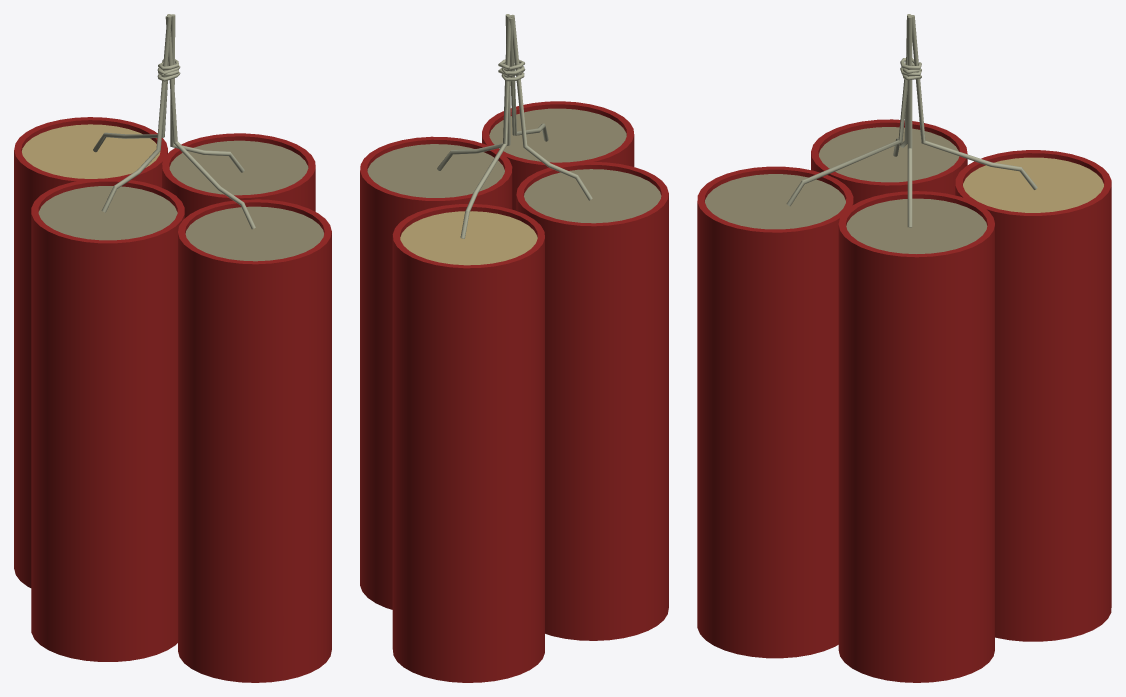
File: bomb+texture.fbx
3 views of the same model, side by side, from view 1: azimuth 30°, elevation 25°; view 2: azimuth 150°, elevation 25°; view 3: azimuth 270°, elevation 25° (orthographic). The views are drawn at different scales.
Visible parts, largest first — view 1: 柱体.007, 柱体.002, 柱体.004, 柱体, 柱体.003, 柱体.008, 柱体.001, 柱体.005; view 2: 柱体.004, 柱体.002, 柱体, 柱体.007, 柱体.005, 柱体.003, 柱体.008, 柱体.001; view 3: 柱体, 柱体.007, 柱体.004, 柱体.002, 柱体.005, 柱体.001, 柱体.008.
Boxes of the visible parts, x1=… form: 柱体.007: x1=178, y1=199, x2=331, y2=682; 柱体.002: x1=31, y1=178, x2=184, y2=661; 柱体.004: x1=14, y1=117, x2=167, y2=587; 柱体: x1=162, y1=133, x2=315, y2=218; 柱体.003: x1=101, y1=15, x2=171, y2=212; 柱体.008: x1=165, y1=16, x2=255, y2=229; 柱体.001: x1=170, y1=14, x2=244, y2=172; 柱体.005: x1=93, y1=14, x2=170, y2=152; 柱体.004: x1=392, y1=204, x2=544, y2=682; 柱体.002: x1=516, y1=162, x2=668, y2=640; 柱体: x1=360, y1=136, x2=512, y2=609; 柱体.007: x1=482, y1=101, x2=634, y2=210; 柱体.005: x1=460, y1=16, x2=511, y2=238; 柱体.003: x1=510, y1=14, x2=592, y2=200; 柱体.008: x1=509, y1=17, x2=548, y2=141; 柱体.001: x1=437, y1=14, x2=510, y2=170; 柱体: x1=838, y1=191, x2=994, y2=682; 柱体.007: x1=697, y1=166, x2=853, y2=658; 柱体.004: x1=955, y1=150, x2=1111, y2=641; 柱体.002: x1=811, y1=119, x2=967, y2=204; 柱体.005: x1=911, y1=15, x2=1037, y2=189; 柱体.001: x1=907, y1=16, x2=912, y2=227; 柱体.008: x1=786, y1=44, x2=907, y2=206.
Bounding box in the file's own units: 0.4165 × 0.529 × 0.8489.
